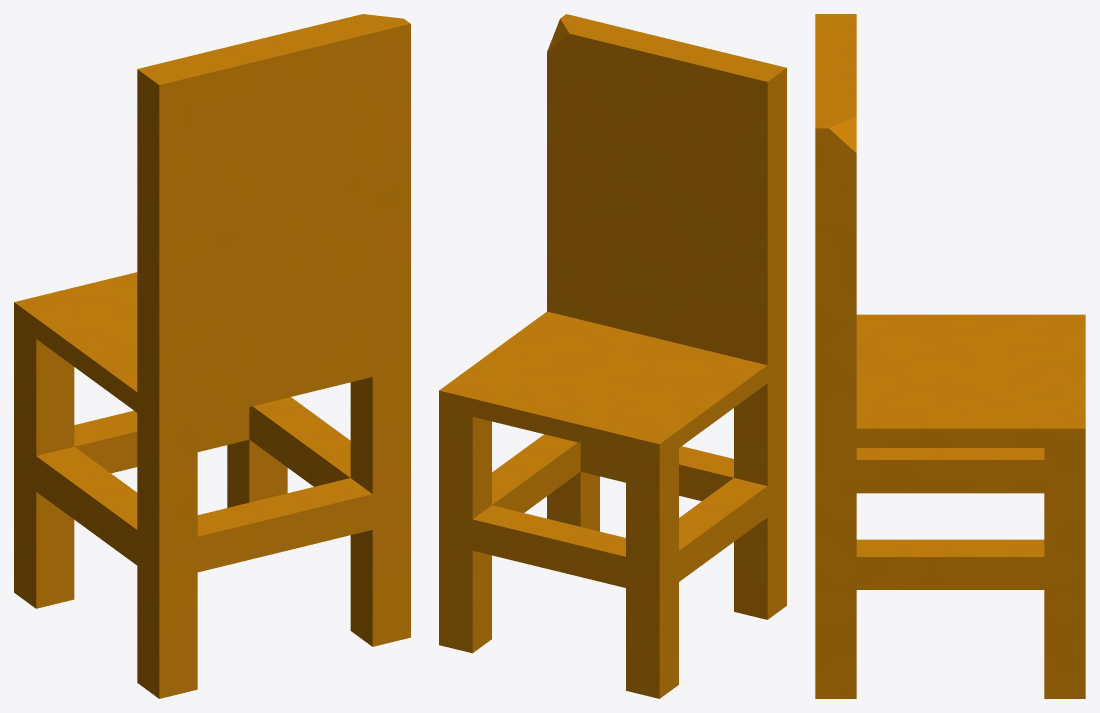
File: Chair_3.fbx
3 renders of one model, left to right at view 1: azimuth 30°, elevation 25°; view 2: azimuth 150°, elevation 25°; view 3: azimuth 270°, elevation 25°, orthographic. The views are drawn at different scales.
Visible parts, largest first — view 1: Chair 3; view 2: Chair 3; view 3: Chair 3.
Part boxes in pixels (x1,y1,x2,y2): Chair 3: [14, 14, 410, 698]; Chair 3: [439, 14, 786, 698]; Chair 3: [815, 14, 1085, 698].
Bounding box in the file's own units: 52.89 × 123 × 52.89.
